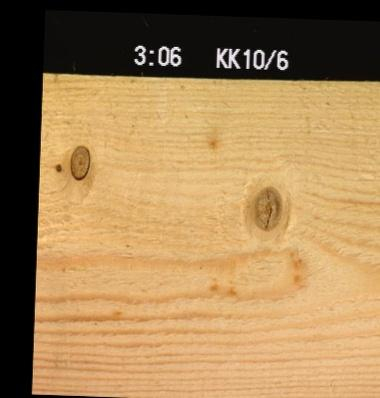dry_knot: (68, 143, 90, 180), (53, 161, 61, 171)
sound_knot: (248, 182, 282, 230)
